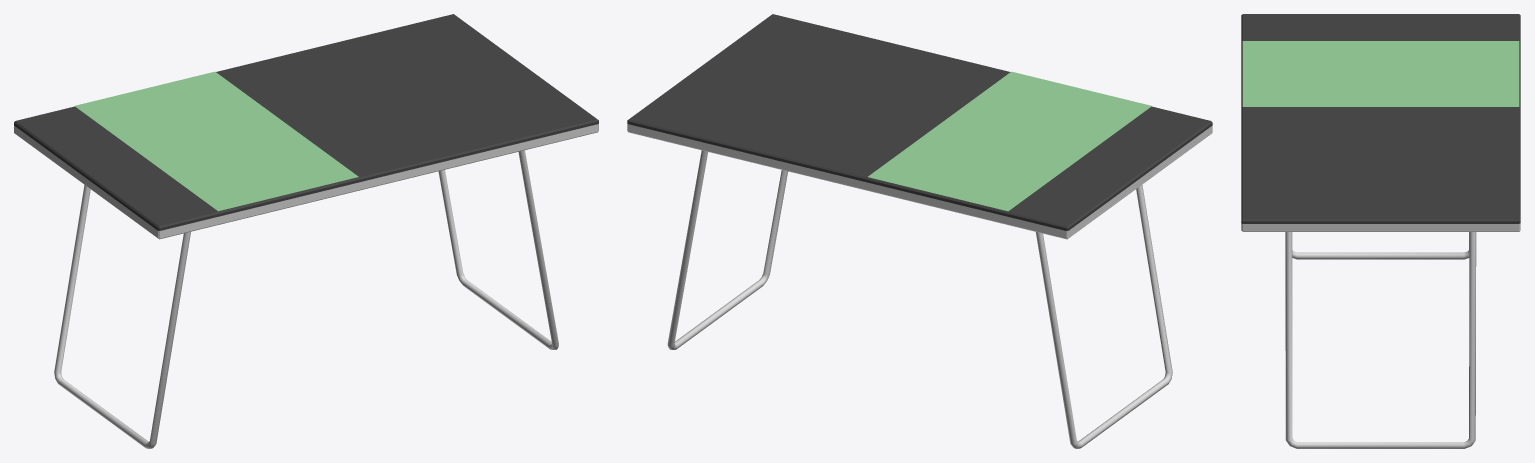
File: SDJJT67701.FBX
The picture shows the model from 3 angles, left to right: view 1: azimuth 30°, elevation 25°; view 2: azimuth 150°, elevation 25°; view 3: azimuth 270°, elevation 25°; orthographic projection. The views are drawn at different scales.
Visible parts, largest first — view 1: SDJJT67701; view 2: SDJJT67701; view 3: SDJJT67701.
Boxes of the visible parts, box(x1,y1,x2,y2) form: SDJJT67701: box(14, 14, 598, 448); SDJJT67701: box(627, 14, 1212, 448); SDJJT67701: box(1241, 14, 1520, 448).
Size of the model in its own units: 140 by 80 by 75.2.
